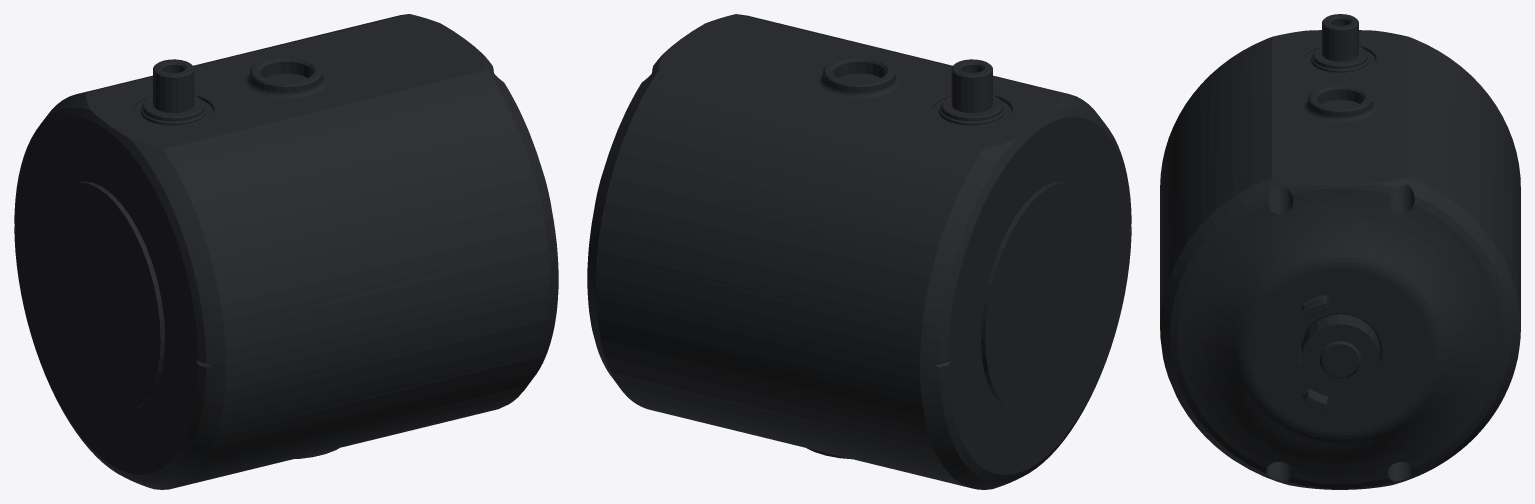
Rendered from AR5_5_08L_W4C4A6_link6_vis.obj.
3 renders of one model, left to right at view 1: azimuth 30°, elevation 25°; view 2: azimuth 150°, elevation 25°; view 3: azimuth 270°, elevation 25°, orthographic. The views are drawn at different scales.
Parts seen in each view (by area): view 1: AR5_5_08L_W4C4A6_link6; view 2: AR5_5_08L_W4C4A6_link6; view 3: AR5_5_08L_W4C4A6_link6.
Boxes of the visible parts, bbox=[...] form: AR5_5_08L_W4C4A6_link6: bbox=[14, 14, 558, 489]; AR5_5_08L_W4C4A6_link6: bbox=[587, 14, 1131, 489]; AR5_5_08L_W4C4A6_link6: bbox=[1160, 14, 1520, 489].
Size of the model in its own units: 0.0933 by 0.0829 by 0.078.
Materials: 1 (1 with a texture image).
